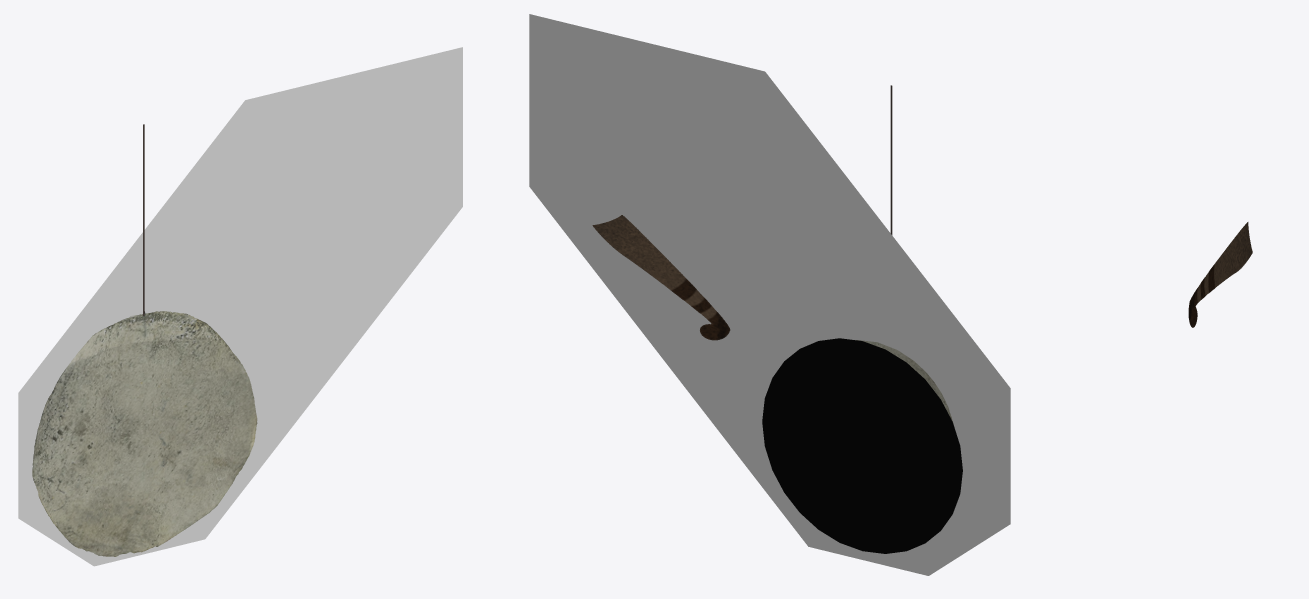
The model's file is Mariner_lluna.FBX.
3 views of the same model, side by side, from view 1: azimuth 30°, elevation 25°; view 2: azimuth 150°, elevation 25°; view 3: azimuth 270°, elevation 25° (orthographic). The views are drawn at different scales.
Visible parts, largest first — view 1: forat01, Plane02; view 2: forat01, Circle01, pota; view 3: pota.
Boxes of the visible parts, x1,y1,x2,y2 form: forat01: [18, 47, 462, 566]; Plane02: [32, 311, 257, 556]; forat01: [529, 14, 1010, 575]; Circle01: [762, 338, 962, 553]; pota: [592, 215, 730, 340]; pota: [1188, 222, 1252, 327].
Bounding box in the file's own units: 18.14 × 7.08 × 16.63.
